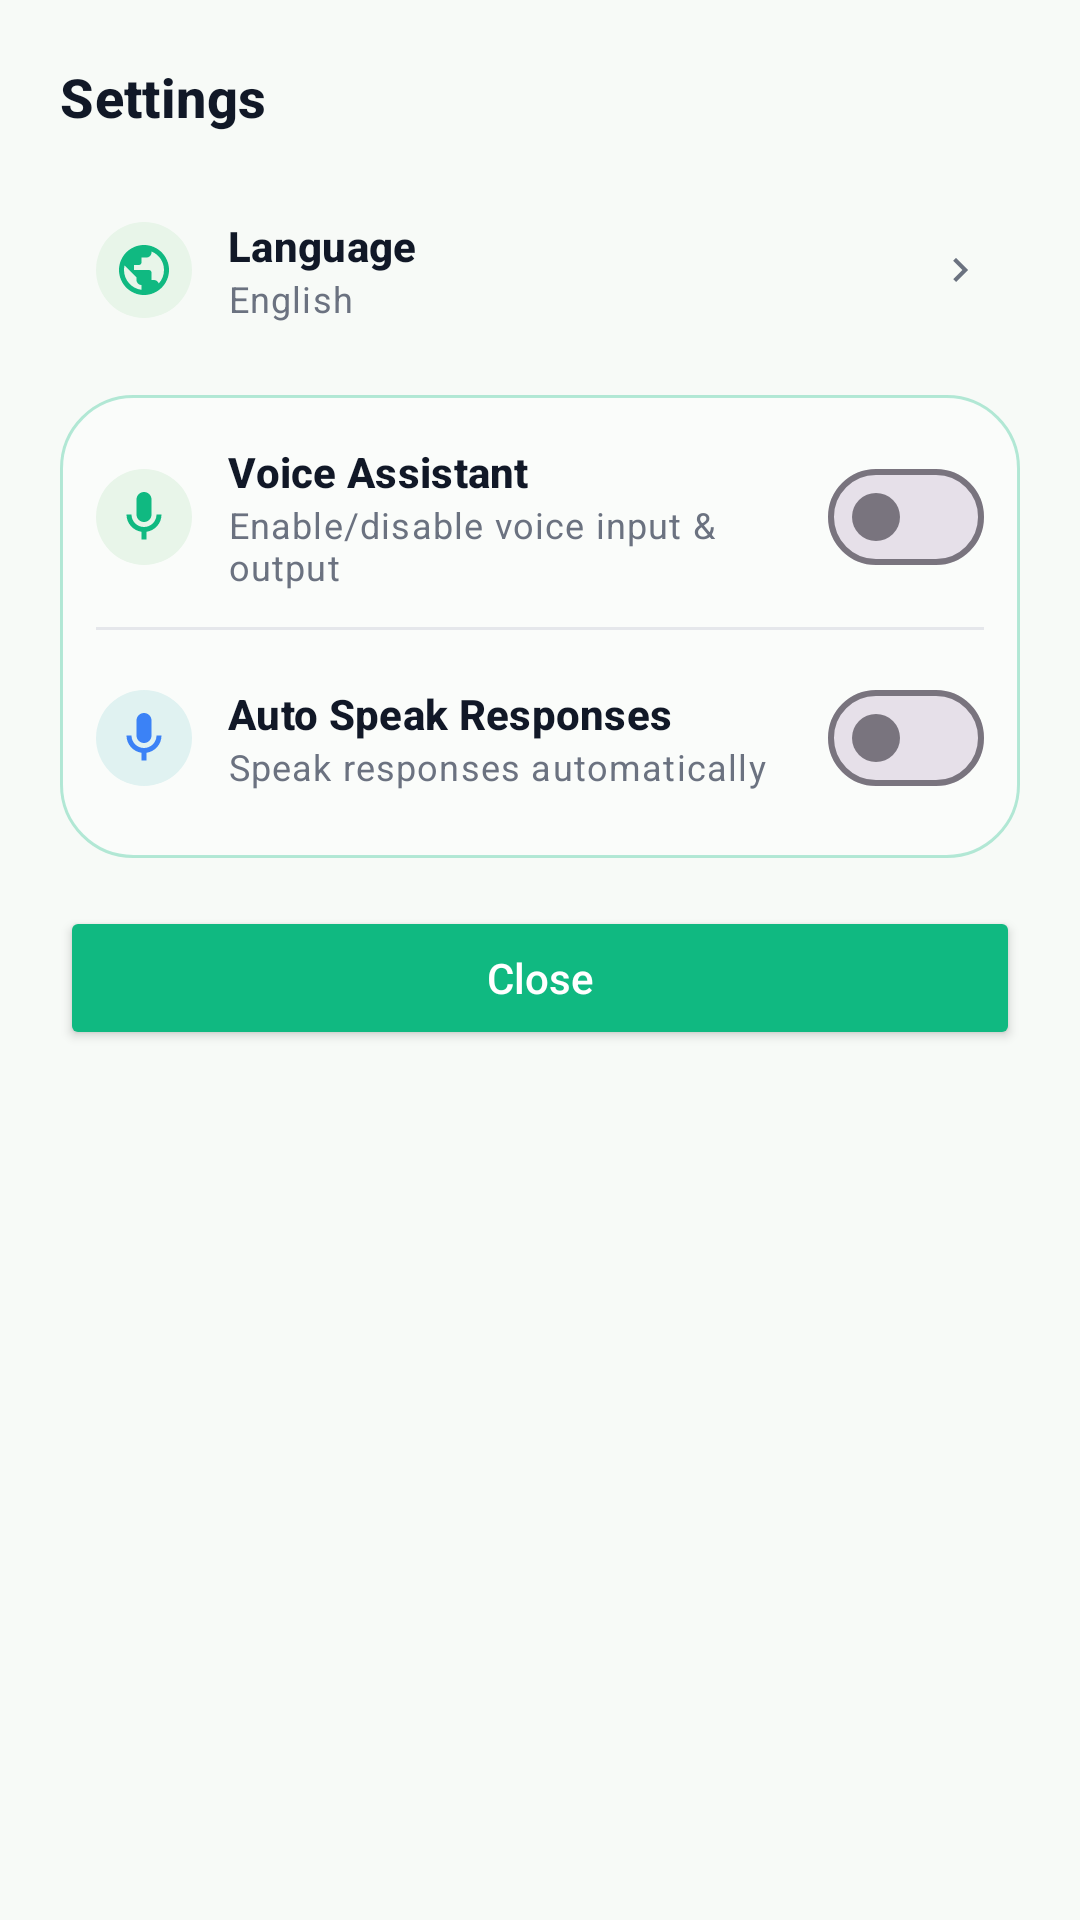

Where icons sit on this 1080w x 1920h app screen, as {"x1": x1, "y1": y1, "x2": x2, "y2": y2}:
chevron right: {"x1": 953, "y1": 258, "x2": 968, "y2": 282}
mic: {"x1": 96, "y1": 469, "x2": 192, "y2": 565}, {"x1": 96, "y1": 690, "x2": 192, "y2": 786}
